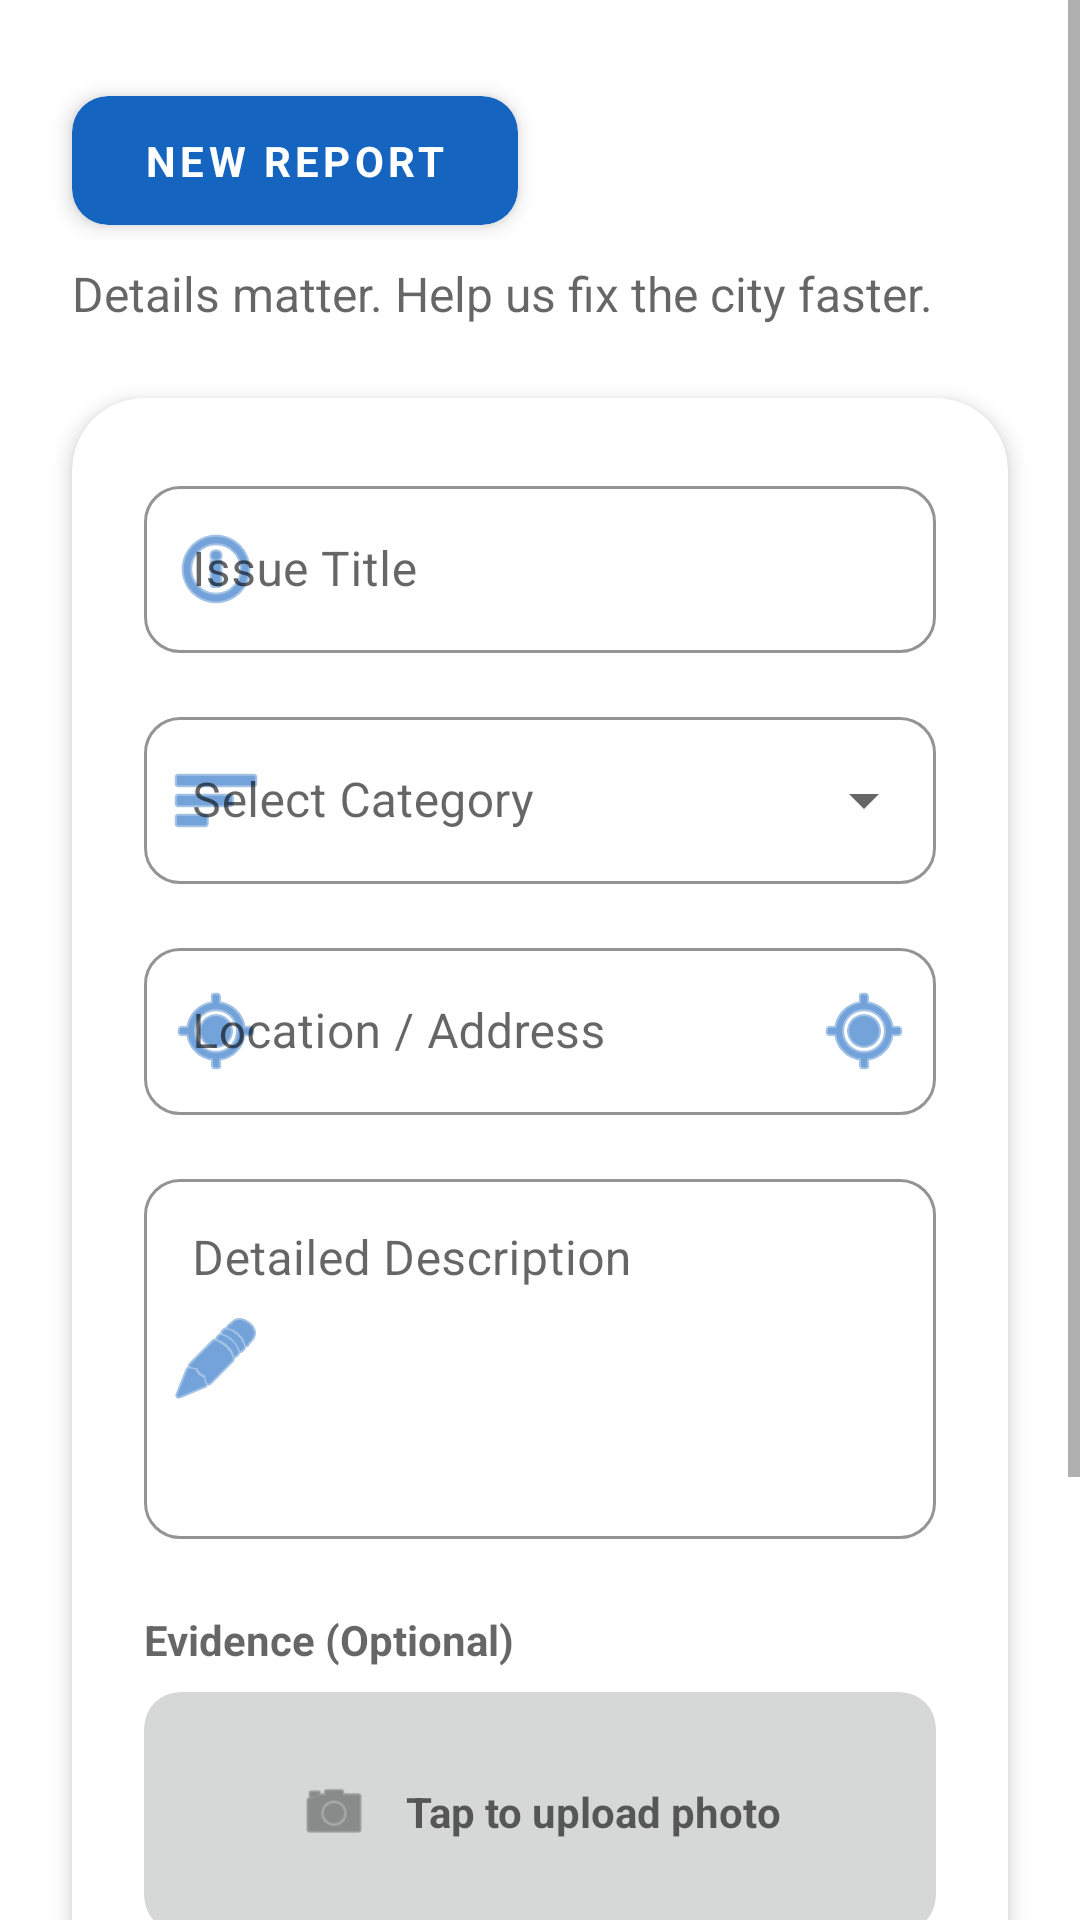

Locate icon controls on the screen. Image size 1080px×1920px, boxes as (x1, y1, x2, y2).
camera: (306, 1789, 362, 1833)
